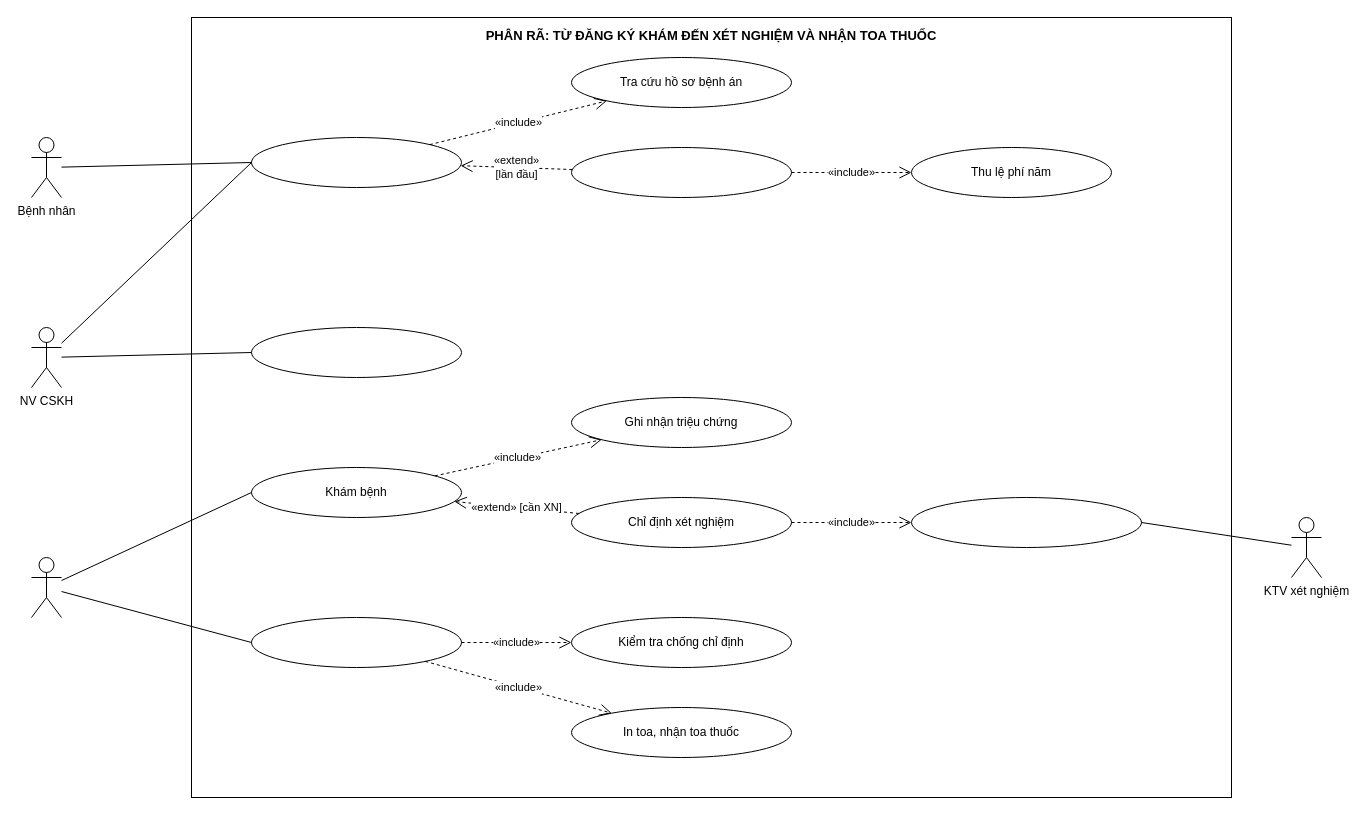
Image size: 1366x815. Some labels were removed from this diagram. The box of each missing label's shape, as (x1, y1, x2, y2) in pixels:
Bác sĩ: (30, 556, 62, 618)
Kê toa thuốc: (250, 616, 462, 668)
Lập hồ sơ bệnh án mới: (570, 146, 792, 198)
Lập phiếu khám: (250, 326, 462, 378)
Thực hiện, nhập kết quả XN: (910, 496, 1142, 548)
Đăng ký khám bệnh: (250, 136, 462, 188)
